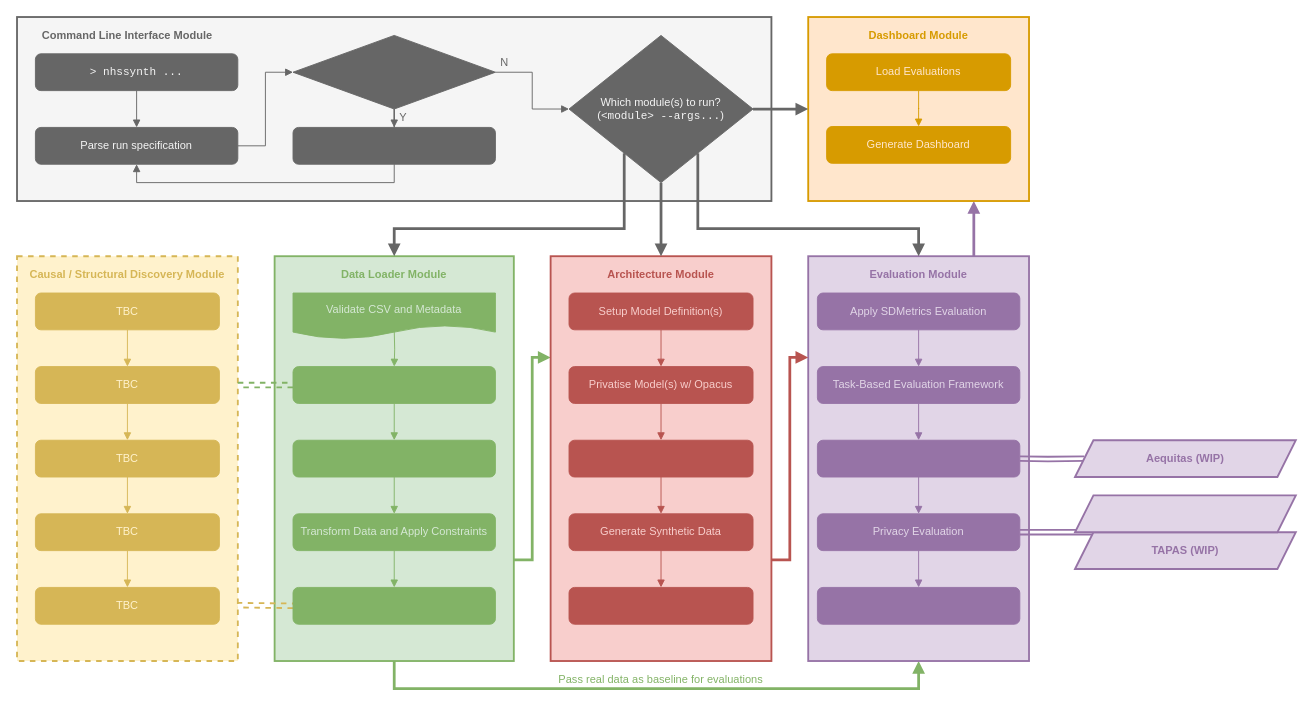
Some shapes in this 1312 by 713 pixel diagram are drawn without their labels. The shapes that lost their labels are listed below. From the top down, each one's box as (x1, y1, x2, y2) in pixels, then its label:
(292, 34, 495, 109): Read Config? ( config -c <file> )
(292, 126, 495, 164): Unpack Config
(292, 366, 495, 403): Infer Missing Metadata Components
(292, 439, 495, 477): Type and Resolve Missingness in Data
(568, 439, 753, 477): Train Model(s)
(816, 439, 1020, 477): Fairness Evaluation
(1074, 494, 1296, 533): NHSx Synthetic Adversarial Suite
(292, 586, 495, 624): Output Prepared Dataset
(568, 586, 753, 624): Output Synthetic Data and Results
(816, 586, 1020, 624): Output Evaluations
